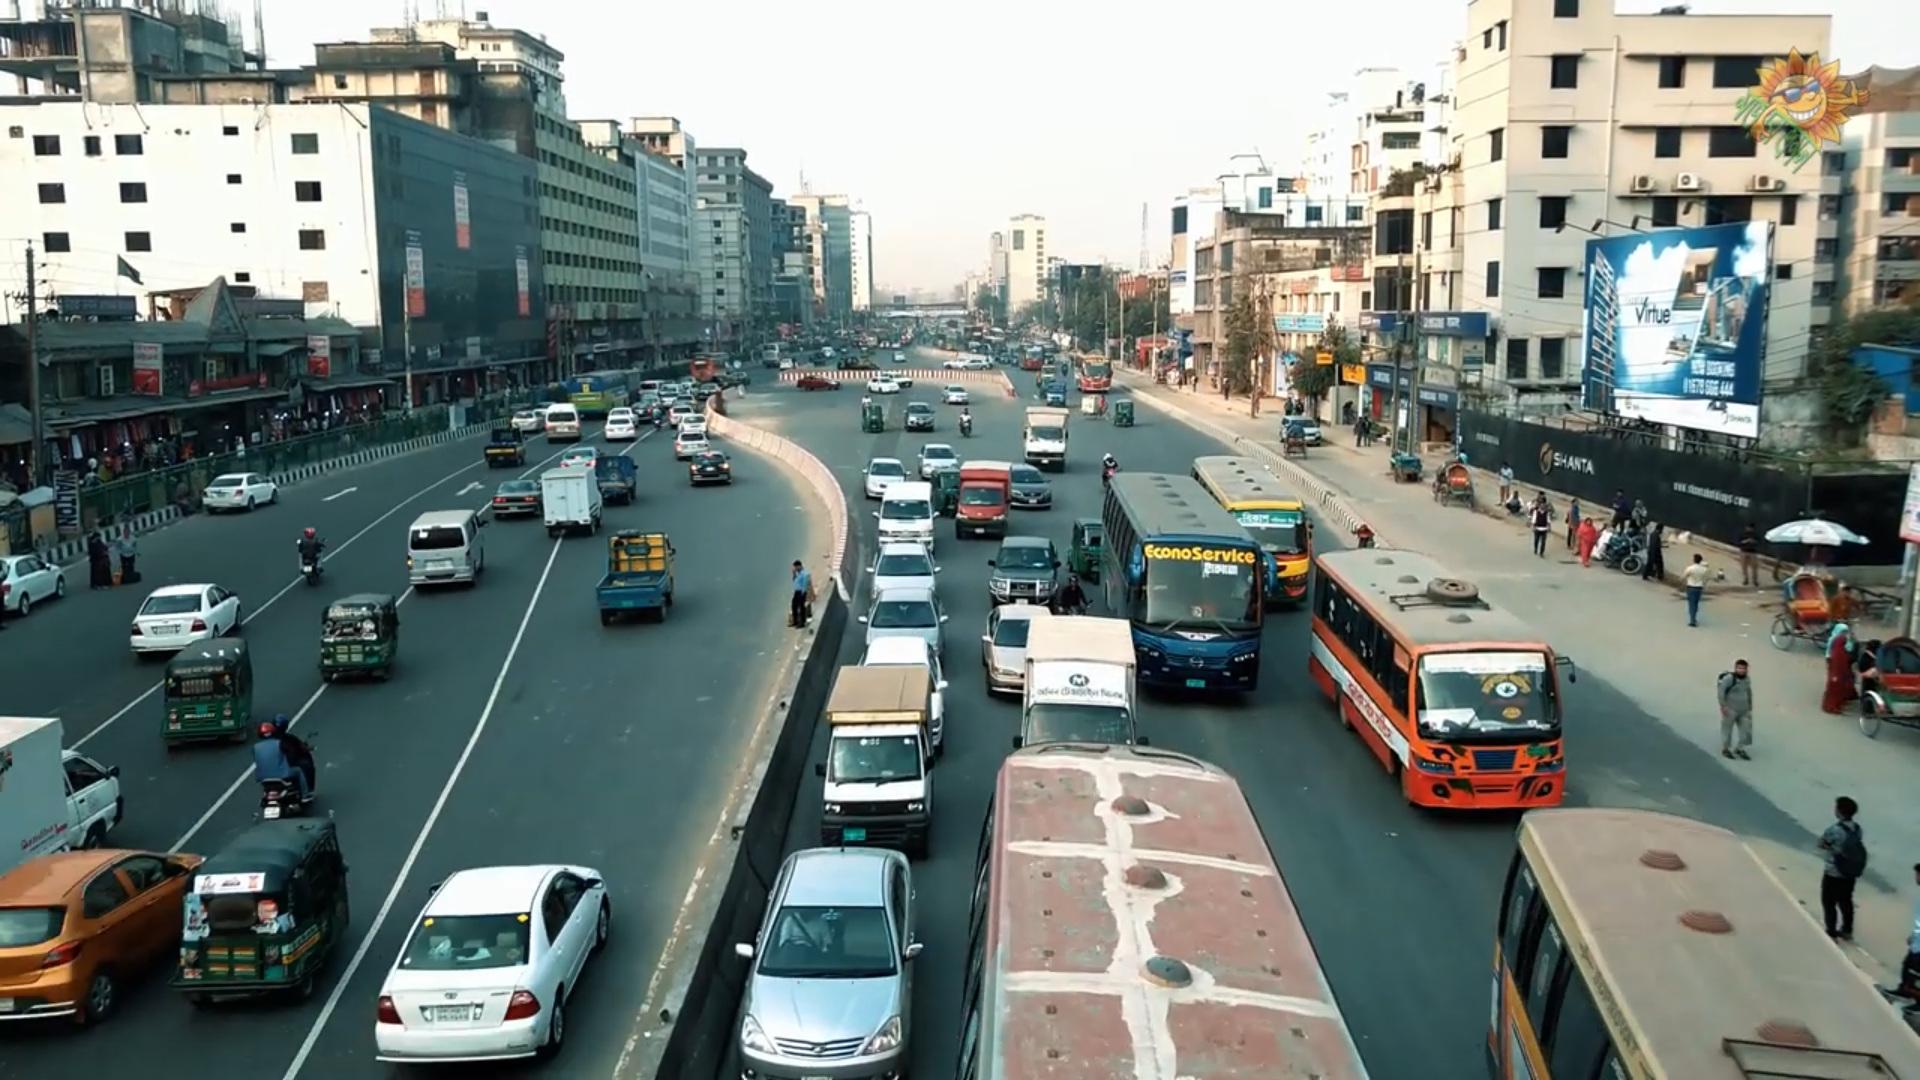HeavyVehicle: (975, 738, 1377, 1080), (1478, 808, 1916, 1079), (1309, 545, 1565, 811), (1131, 469, 1266, 715), (1022, 404, 1069, 465), (1073, 353, 1116, 394)
LightVehicle: (368, 858, 615, 1072), (741, 843, 932, 1079), (818, 659, 944, 843), (123, 583, 247, 666), (597, 529, 680, 629), (327, 592, 401, 683), (406, 504, 479, 593), (953, 459, 1011, 541), (996, 541, 1058, 601), (202, 472, 286, 516), (869, 541, 939, 588), (869, 595, 944, 636), (687, 447, 738, 492), (857, 641, 944, 663)
MotorCycle: (251, 707, 319, 818), (293, 522, 328, 595), (956, 405, 978, 438)
